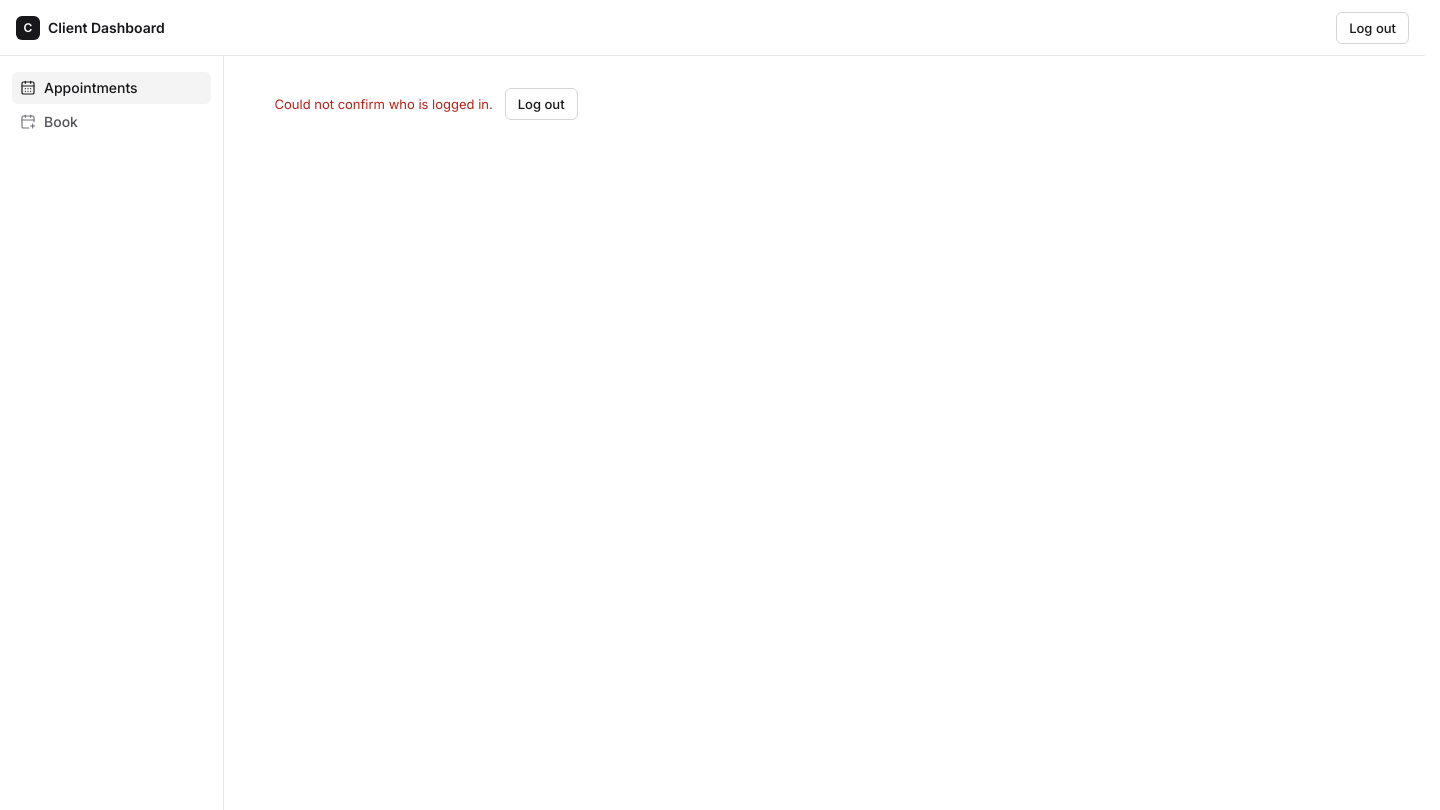
Test: App routes › asks a client to log out when the session cannot be confirmed
Expected: the text "Could not confirm who is logged in." is shown, x1=274 y1=94 x2=493 y2=114
Click the button "Log out" in the row of "Client Dashboard" at point(1373, 28), box x1=1336 y1=12 x2=1409 y2=44
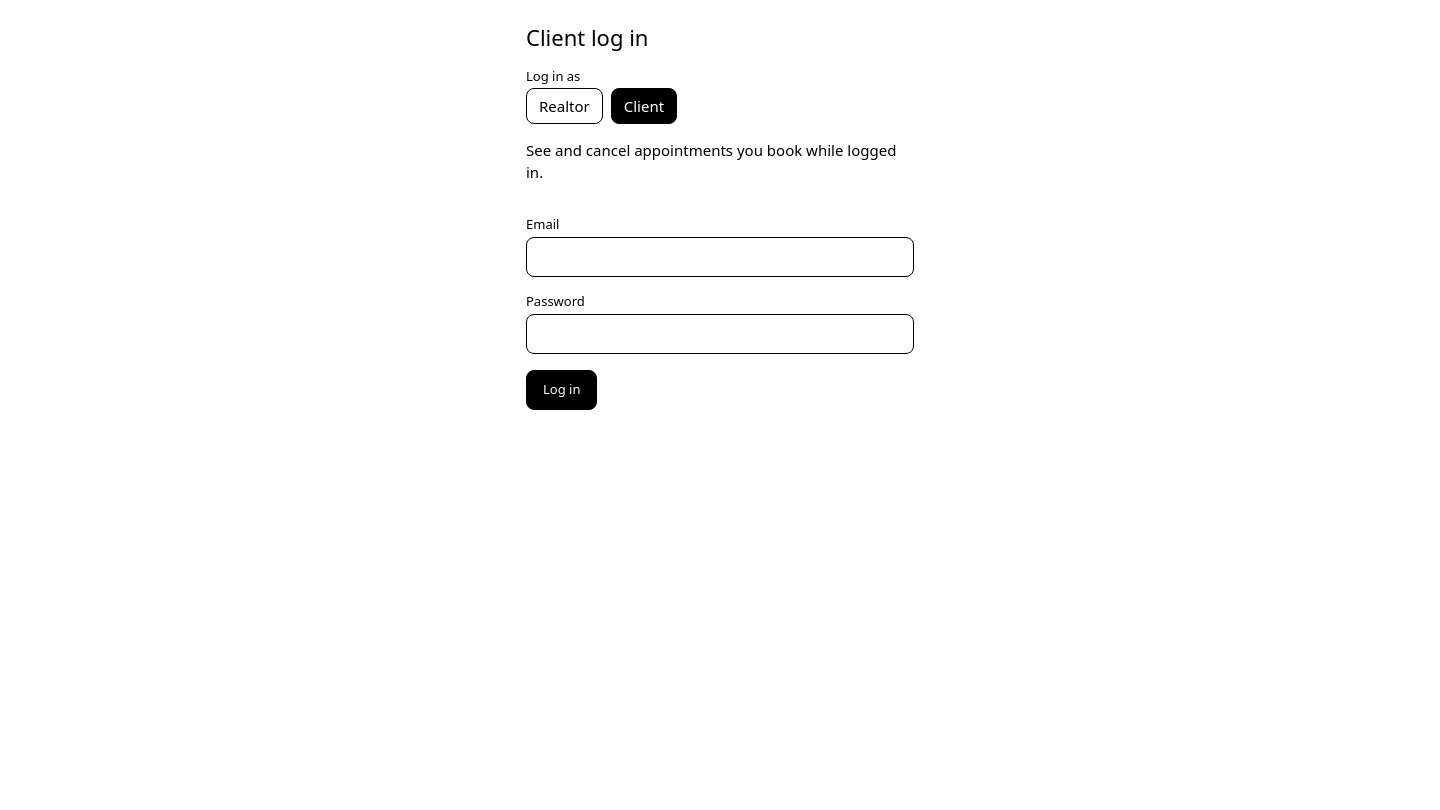
Now the heading "Client log in" is shown, box x1=526 y1=22 x2=648 y2=52
